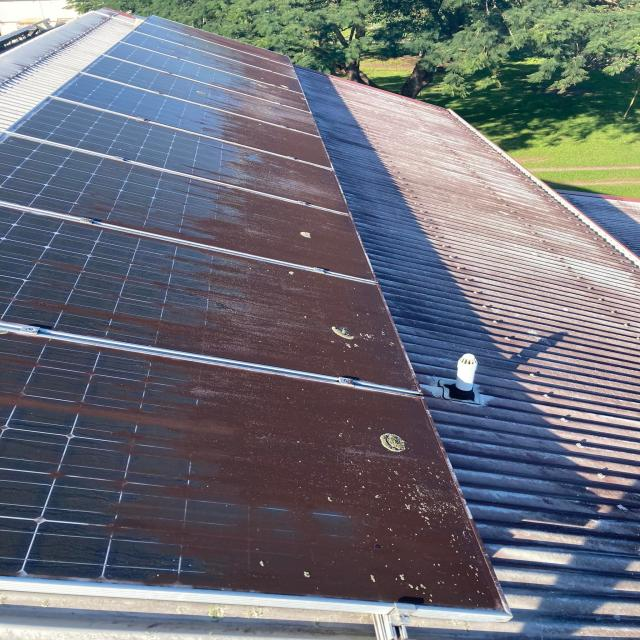dust-solar-panel: (2, 16, 502, 608)
